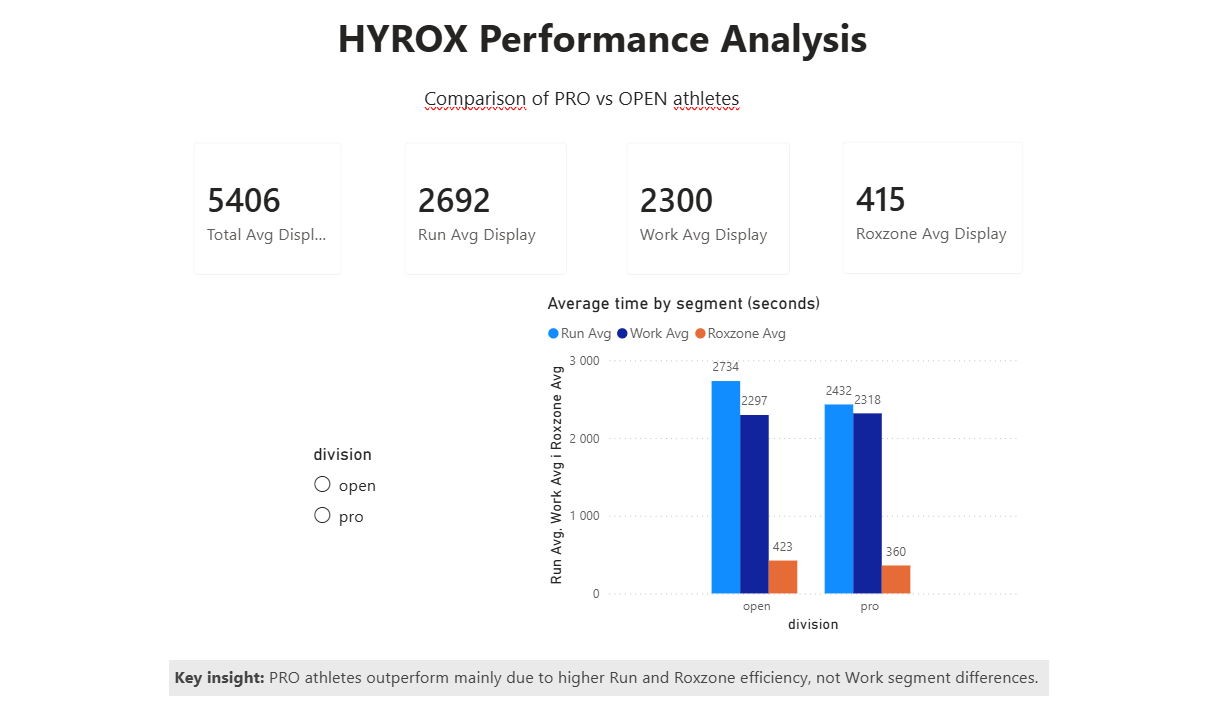

What the dashboard file says about the page in this screenshot:
{"tool":"powerbi","page":{"name":"Strona 1","canvas":[1280,720],"ordinal":0},"visuals":[{"type":"clusteredColumnChart","title":"Average time by segment (seconds)","fields":{"Category":["london_2021_2023.division"],"Y":["london_2021_2023.Run Avg","london_2021_2023.Work Avg","london_2021_2023.Roxzone Avg"]},"box":[598.2,294.7,466.9,335.6],"z":0},{"type":"cardVisual","fields":{"Data":["london_2021_2023.Total Avg Display"]},"box":[242.2,131.3,179,163.4],"z":1000},{"type":"cardVisual","fields":{"Data":["london_2021_2023.Run Avg Display"]},"box":[447.4,131.3,192.6,163.4],"z":2000},{"type":"cardVisual","fields":{"Data":["london_2021_2023.Roxzone Avg Display"]},"box":[873.4,130.3,210.1,163.4],"z":3000},{"type":"cardVisual","fields":{"Data":["london_2021_2023.Work Avg Display"]},"box":[663.3,131.3,193.6,163.4],"z":4000},{"type":"textbox","box":[393.9,15.6,537.9,59.3],"z":5000},{"type":"textbox","box":[478.5,86.6,321.9,44.7],"z":6000},{"type":"listSlicer","fields":{"Values":["london_2021_2023.division"]},"box":[370.6,441.6,162.4,119.6],"z":7000},{"type":"textbox","box":[235.4,651.7,855.9,35],"z":7001}]}

Visuals, with their boxes on the page's 1280x720 design canvas (x1, y1, x2, y2). These are canvas units, not pixel positions in the 1224x720 screenshot, which may show the page scaled, cropped or inside an application window:
"Average time by segment (seconds)" clusteredColumnChart: <box>598,295,1065,630</box>
cardVisual - london_2021_2023.Total Avg Display: <box>242,131,421,295</box>
cardVisual - london_2021_2023.Run Avg Display: <box>447,131,640,295</box>
cardVisual - london_2021_2023.Roxzone Avg Display: <box>873,130,1084,294</box>
cardVisual - london_2021_2023.Work Avg Display: <box>663,131,857,295</box>
textbox: <box>394,16,932,75</box>
textbox: <box>478,87,800,131</box>
listSlicer - london_2021_2023.division: <box>371,442,533,561</box>
textbox: <box>235,652,1091,687</box>
